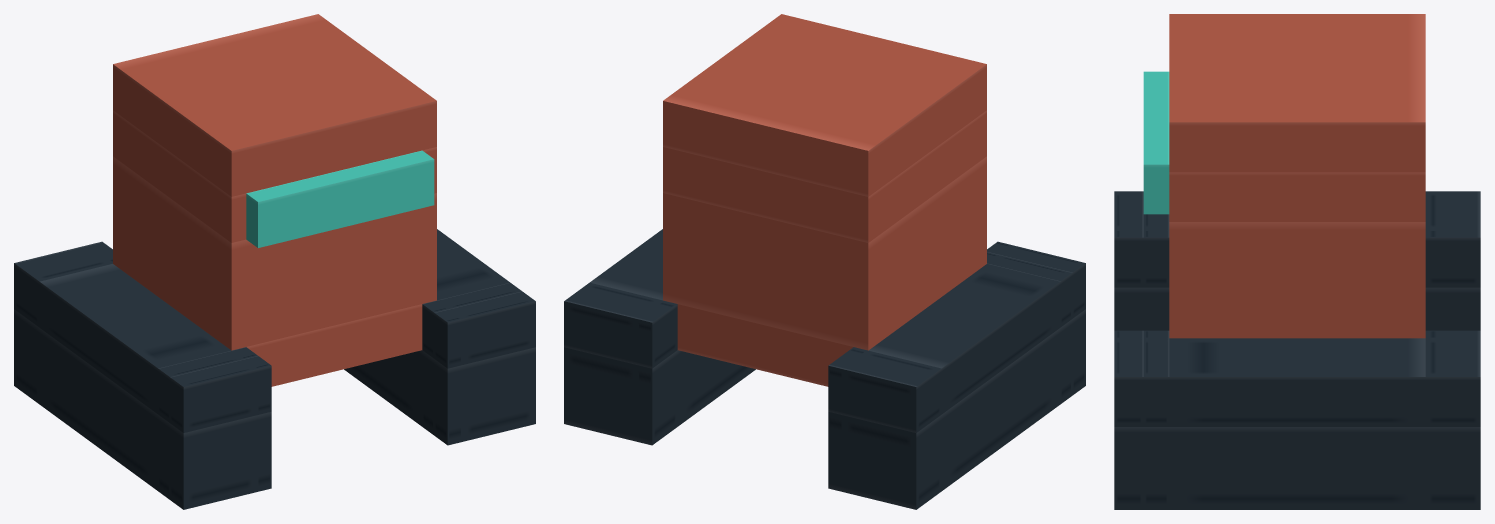
The model's file is sc_enemy_patroller.obj.
3 views of the same model, side by side, from view 1: azimuth 30°, elevation 25°; view 2: azimuth 150°, elevation 25°; view 3: azimuth 270°, elevation 25° (orthographic). The views are drawn at different scales.
Bounding box in the file's own units: 12 × 10.5 × 10.
1 material, 1 textured.
